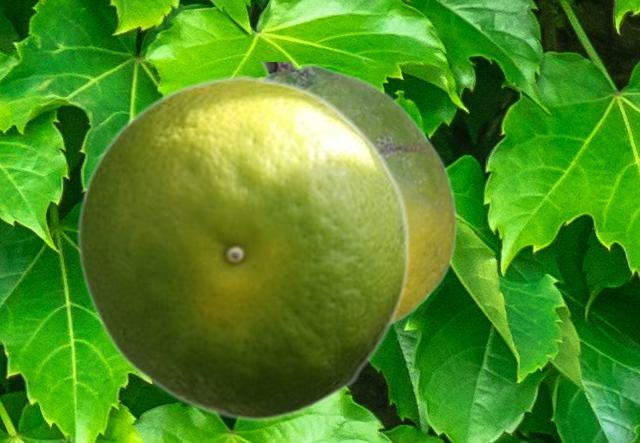dalandan: (76, 74, 409, 421), (258, 62, 457, 324)
